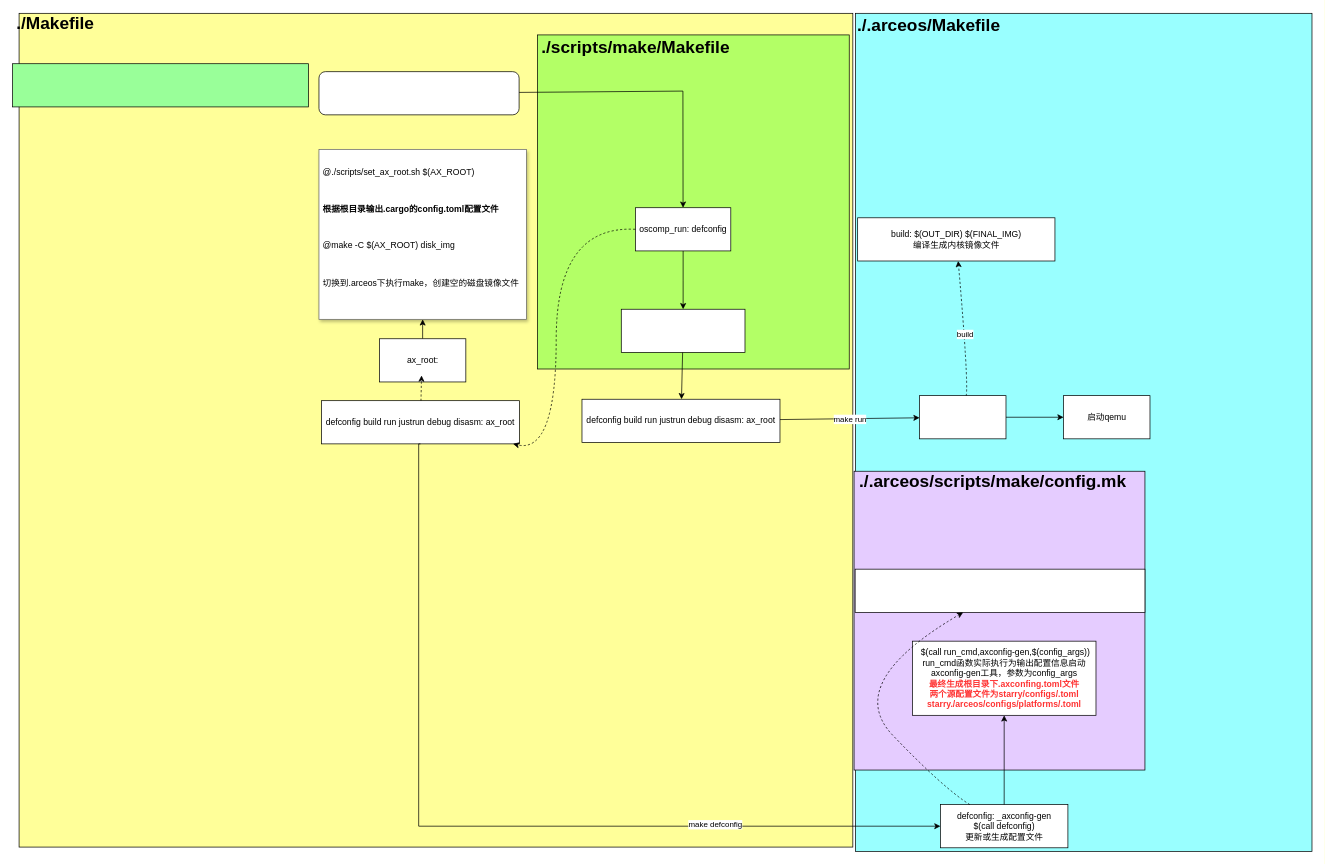
This 1325x864 diagram has some shape labels left out. Here are the shapes that lost their labels. From the top down, the centre of each, then its label:
At [160,85]: "实线为规则具体执行虚线为依赖执行".
At [418,93]: "make ARCH=riscv64 oscomp_run SHELL=bash".
At [683,330]: "加载镜像，执行makerun".
At [962,417]: "run: build justrun".
At [999,590]: "_axconfig-gen: 确保axconfig-gen已安装".
